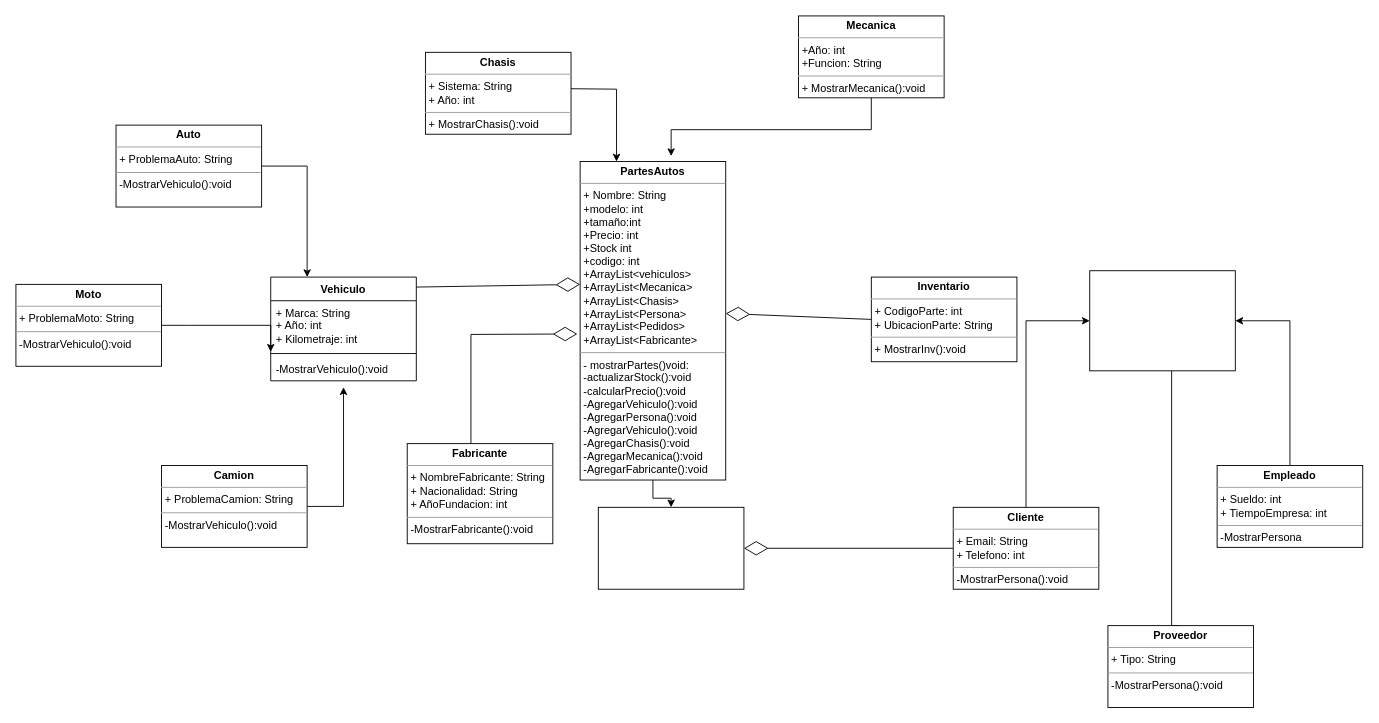
The diagram is 1379 pixels wide and 723 high, and some of its shapes have lost their labels. Here are the shapes that lost their labels. From the top down, the centre of each, then its label:
point 1162,320: Persona + Nombre: String + Apellido: String + Edad: int + MostrarPersona():void
point 670,547: Pedidos + TipoPedido: String + Descripcion: String -MostrarPedido():void
